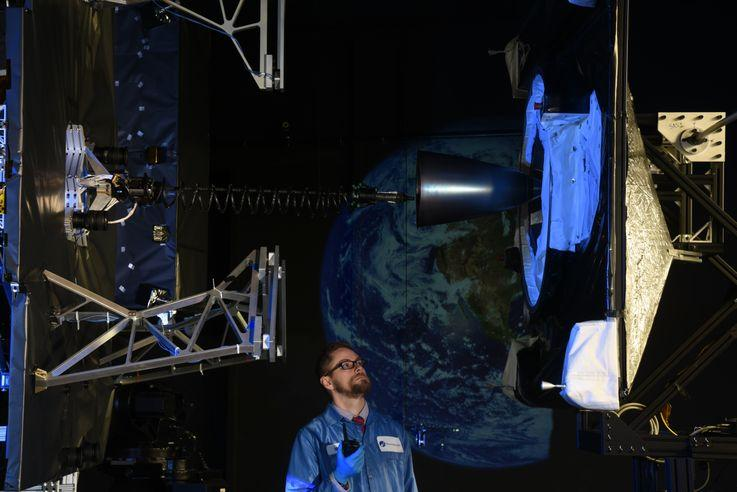antenna: (60, 155, 416, 240)
thruster: (412, 146, 538, 231), (538, 379, 569, 393), (485, 48, 510, 58), (484, 380, 505, 391)
